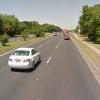Car: (5, 40, 43, 80)
